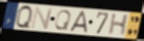7: (96, 11, 110, 35)
A: (69, 10, 88, 33)
H: (107, 13, 130, 37)
N: (30, 7, 54, 30)
Q: (15, 4, 34, 31), (53, 10, 73, 31)
